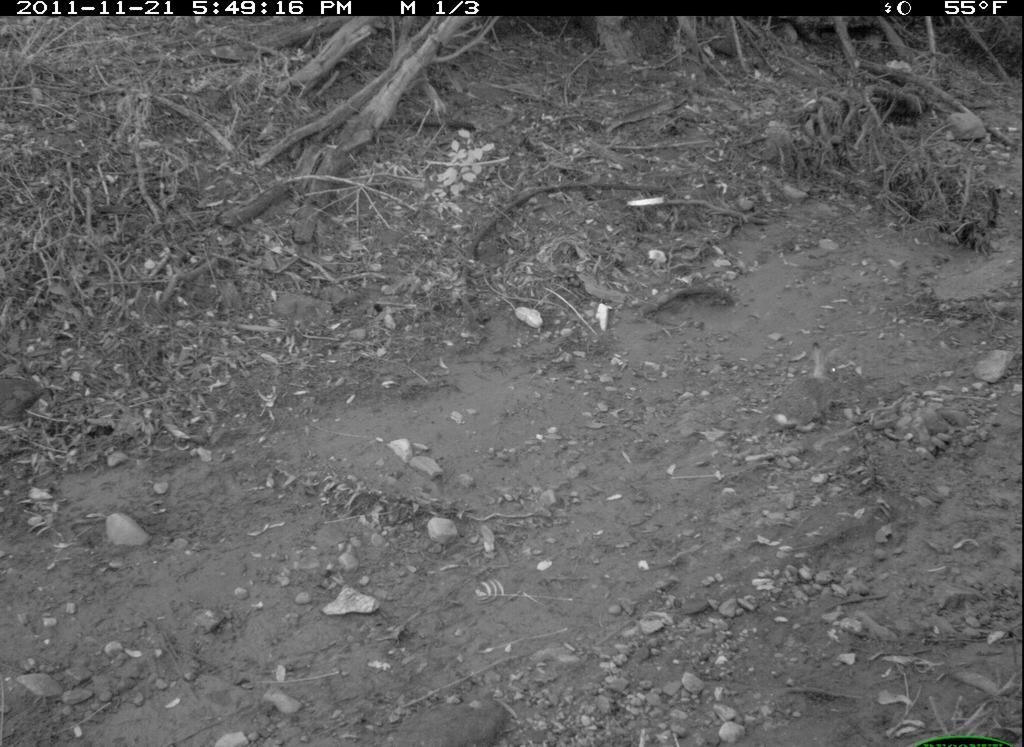rabbit: (770, 344, 850, 438)
